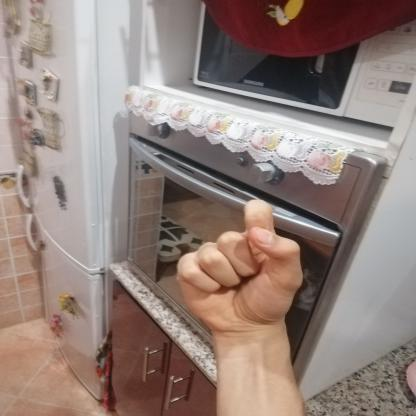FAA: (164, 190, 318, 340)
